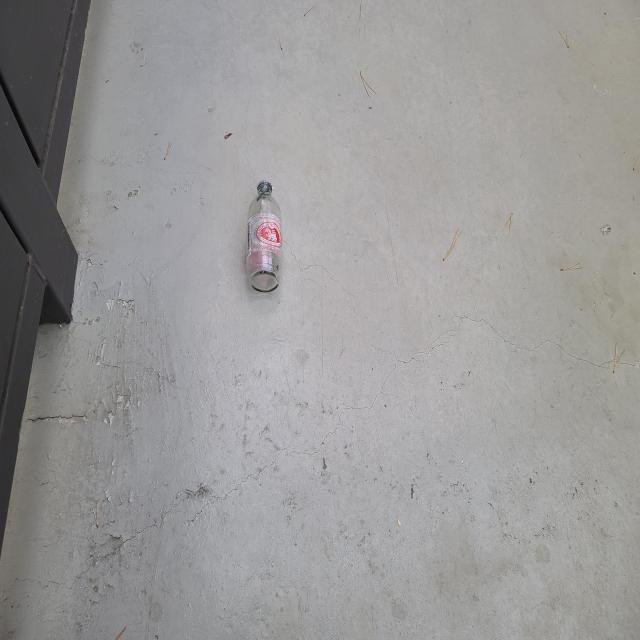glass: (246, 180, 282, 292)
